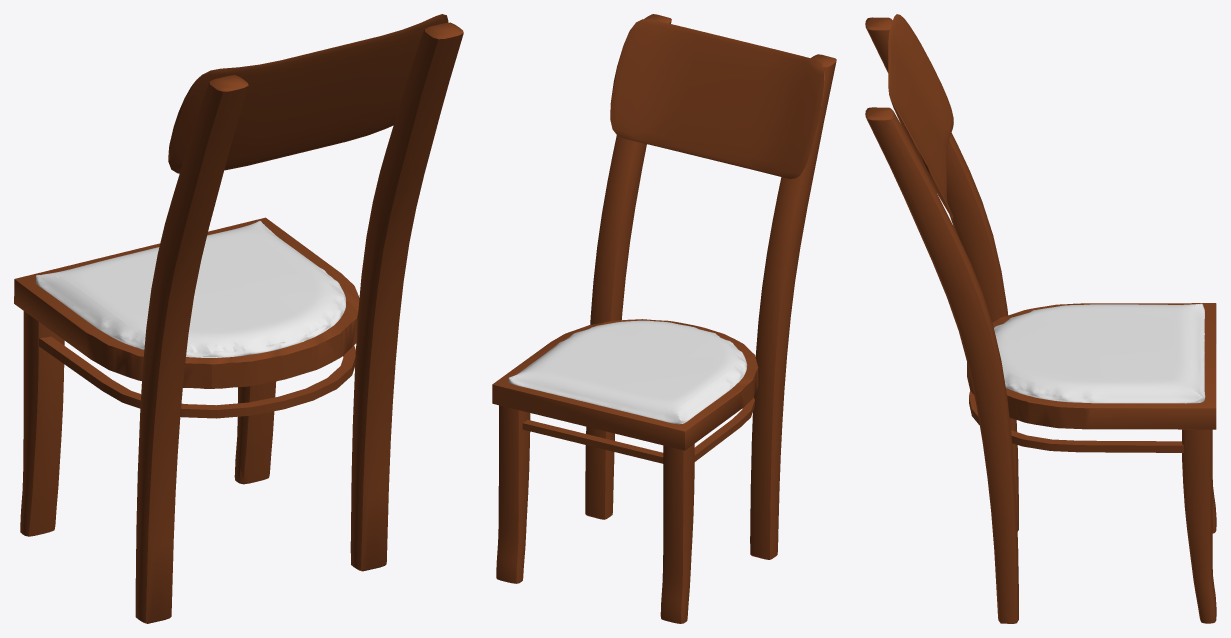
Rendered from chair.fbx.
3 renders of one model, left to right at view 1: azimuth 30°, elevation 25°; view 2: azimuth 150°, elevation 25°; view 3: azimuth 270°, elevation 25°, orthographic. The views are drawn at different scales.
Visible parts, largest first — view 1: Cube.049, Cube.048, Cube.050, Plane, chair, Cube.052, Cube.053, Cube.051; view 2: Plane, Cube.050, Cube.049, Cube.048, chair, Cube.052, Cube.051, Cube.055, Cube.053; view 3: Cube.050, Cube.048, chair, Plane, Cube.049, Cube.051, Cube.053.
Part boxes in pixels (left/top/right/bottom): Cube.049: left=135, top=75, right=248, bottom=623; Cube.048: left=350, top=22, right=463, bottom=571; Cube.050: left=35, top=221, right=345, bottom=357; Plane: left=168, top=14, right=448, bottom=173; chair: left=14, top=217, right=359, bottom=388; Cube.052: left=20, top=311, right=64, bottom=536; Cube.053: left=39, top=336, right=355, bottom=418; Cube.051: left=234, top=381, right=276, bottom=484; Plane: left=610, top=19, right=824, bottom=178; Cube.050: left=508, top=320, right=747, bottom=424; Cube.049: left=750, top=54, right=836, bottom=559; Cube.048: left=585, top=14, right=671, bottom=519; chair: left=492, top=319, right=758, bottom=450; Cube.052: left=660, top=444, right=694, bottom=623; Cube.051: left=496, top=405, right=530, bottom=583; Cube.055: left=522, top=419, right=663, bottom=463; Cube.053: left=694, top=397, right=754, bottom=461; Cube.050: left=994, top=303, right=1205, bottom=403; Cube.048: left=865, top=107, right=1018, bottom=623; chair: left=967, top=303, right=1216, bottom=429; Plane: left=888, top=14, right=953, bottom=219; Cube.049: left=865, top=17, right=1018, bottom=531; Cube.051: left=1182, top=429, right=1216, bottom=623; Cube.053: left=969, top=390, right=1183, bottom=452.
Size of the model in its own units: 108 by 234 by 145.
